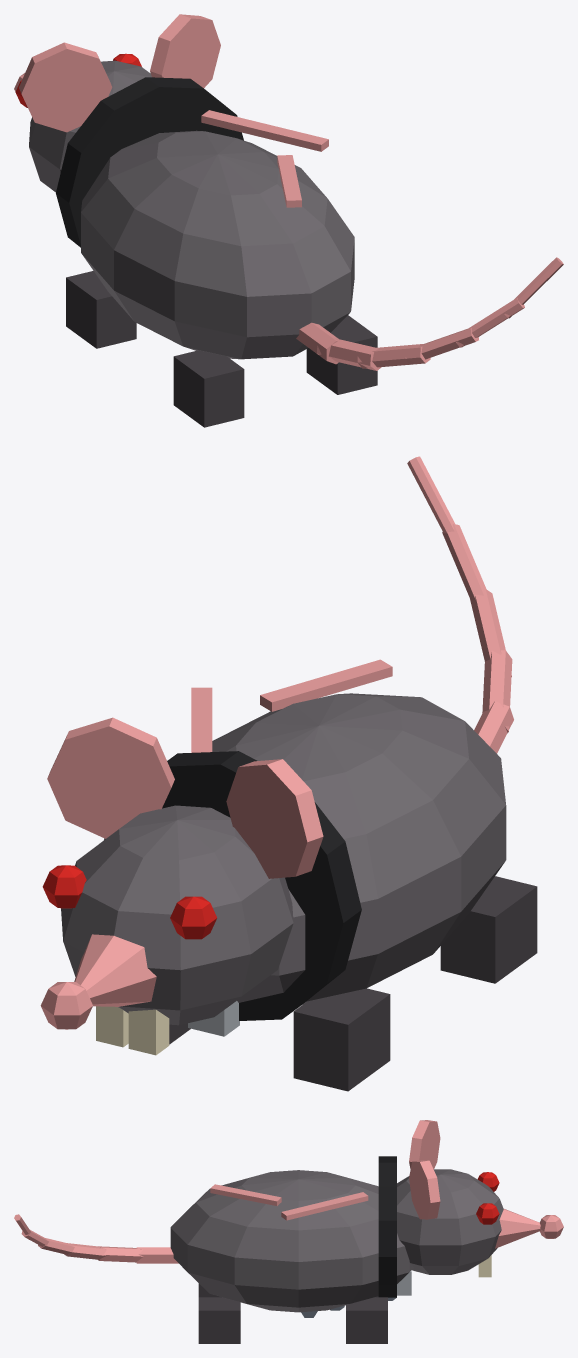
Rendered from boss_giant_rat.glb.
3 renders of one model, top to bottom at view 1: azimuth 30°, elevation 25°; view 2: azimuth 150°, elevation 25°; view 3: azimuth 270°, elevation 25°, orthographic. The views are drawn at different scales.
Visible parts, largest first — view 1: boss_giant_rat; view 2: boss_giant_rat; view 3: boss_giant_rat.
Part boxes in pixels (x1,y1,x2,y2): boss_giant_rat: (14,14,563,427); boss_giant_rat: (40,456,537,1091); boss_giant_rat: (14,1120,563,1343).
Size of the model in its own units: 1.68 by 1.68 by 4.81.
1 material, 1 textured.
